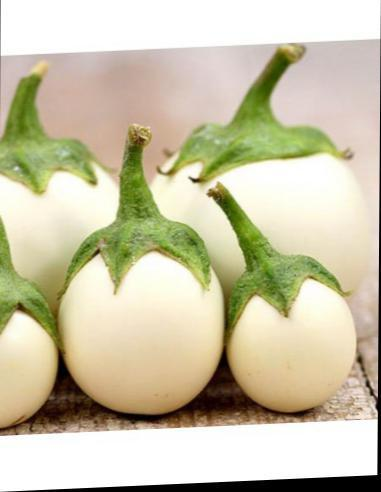eggplant: (0, 71, 365, 427)
